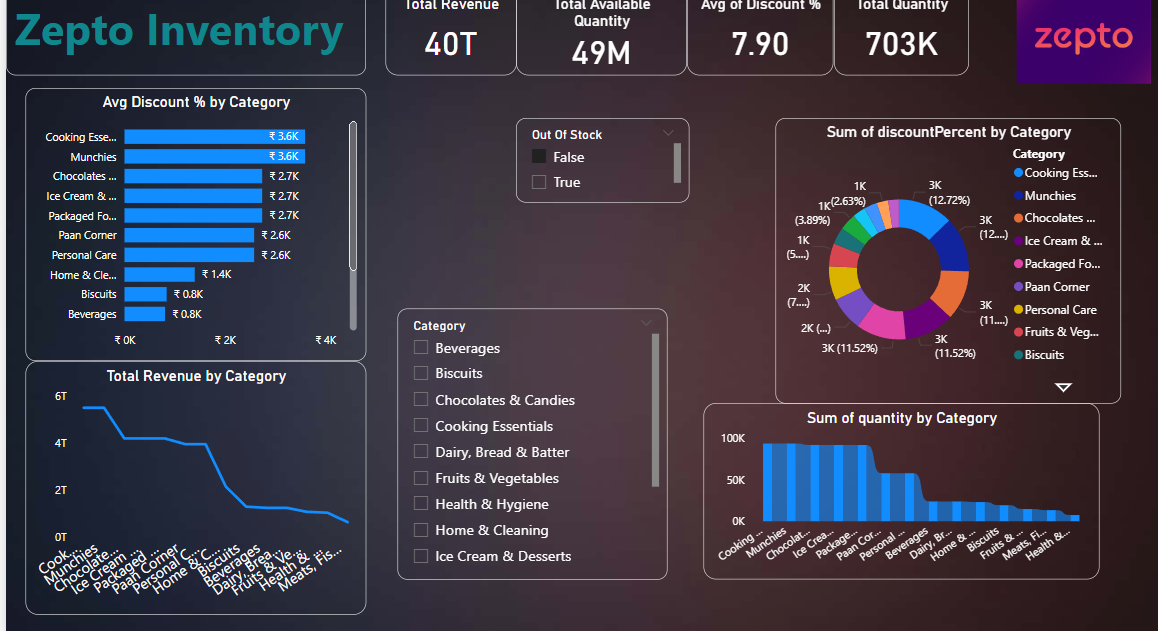

The dashboard page shown, as its layout file describes it:
{"tool":"powerbi","page":{"name":"Page 1","canvas":[1280,720],"ordinal":0},"visuals":[{"type":"clusteredBarChart","title":"Avg Discount % by Category","fields":{"Y":["Sum(Sheet1.Avg Discount %)"],"Category":["Sheet1.Category"]},"box":[21.7,431.7,443.3,266.7],"z":0},{"type":"slicer","fields":{"Values":["Sheet1.Category"]},"box":[465,203.3,270,245],"z":1000},{"type":"ribbonChart","fields":{"Y":["Sum(Sheet1.quantity)"],"Category":["Sheet1.Category"]},"box":[761.7,460,505,235],"z":2000},{"type":"lineChart","title":"Total Revenue by Category","fields":{"Category":["Sheet1.Category"],"Y":["Sum(Sheet1.Total Revenue)"]},"box":[21.7,95,443.3,336.7],"z":3000},{"type":"slicer","fields":{"Values":["Sheet1.outOfStock"]},"box":[465,110,193.3,93.3],"z":4000},{"type":"card","title":"Total Revenue","fields":{"Values":["Sum(Sheet1.Total Revenue)"]},"box":[421.4,0,145.7,95.7],"z":5000},{"type":"image","box":[1114.3,0,165.7,110],"z":6000},{"type":"card","title":"Total Available Quantity","fields":{"Values":["Sum(Sheet1.Total Available Quantity)"]},"box":[716.7,1.7,190,95],"z":7000},{"type":"card","title":"Avg of Discount %","fields":{"Values":["Avg(Sheet1.discountPercent)"]},"box":[906.7,0,163.3,95],"z":8000},{"type":"card","title":"Total Quantity","fields":{"Values":["Sum(Sheet1.quantity)"]},"box":[566.7,1.7,150,95],"z":9000},{"type":"textbox","box":[21.7,0,400,95],"z":10000},{"type":"donutChart","fields":{"Category":["Sheet1.Category"],"Y":["Sum(Sheet1.discountPercent)"]},"box":[735,110,531.7,350],"z":11000},{"type":"clusteredBarChart","title":"Discounted Selling Item by category","fields":{"Category":["Sheet1.Category"],"Y":["Sum(Sheet1.discountedSellingPrice)"]},"box":[465,460,296.7,238.3],"z":12000}]}

Visuals, with their boxes on the page's 1280x720 design canvas (x1, y1, x2, y2). These are canvas units, not pixel positions in the 1158x631 screenshot, which may show the page scaled, cropped or inside an application window:
"Avg Discount % by Category" clusteredBarChart: <bbox>22, 432, 465, 698</bbox>
slicer - Sheet1.Category: <bbox>465, 203, 735, 448</bbox>
ribbonChart - Sum(Sheet1.quantity) x Sheet1.Category: <bbox>762, 460, 1267, 695</bbox>
"Total Revenue by Category" lineChart: <bbox>22, 95, 465, 432</bbox>
slicer - Sheet1.outOfStock: <bbox>465, 110, 658, 203</bbox>
"Total Revenue" card: <bbox>421, 0, 567, 96</bbox>
image: <bbox>1114, 0, 1280, 110</bbox>
"Total Available Quantity" card: <bbox>717, 2, 907, 97</bbox>
"Avg of Discount %" card: <bbox>907, 0, 1070, 95</bbox>
"Total Quantity" card: <bbox>567, 2, 717, 97</bbox>
textbox: <bbox>22, 0, 422, 95</bbox>
donutChart - Sheet1.Category x Sum(Sheet1.discountPercent): <bbox>735, 110, 1267, 460</bbox>
"Discounted Selling Item by category" clusteredBarChart: <bbox>465, 460, 762, 698</bbox>
